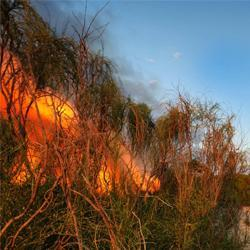fire: (93, 167, 164, 193), (28, 88, 72, 125)
